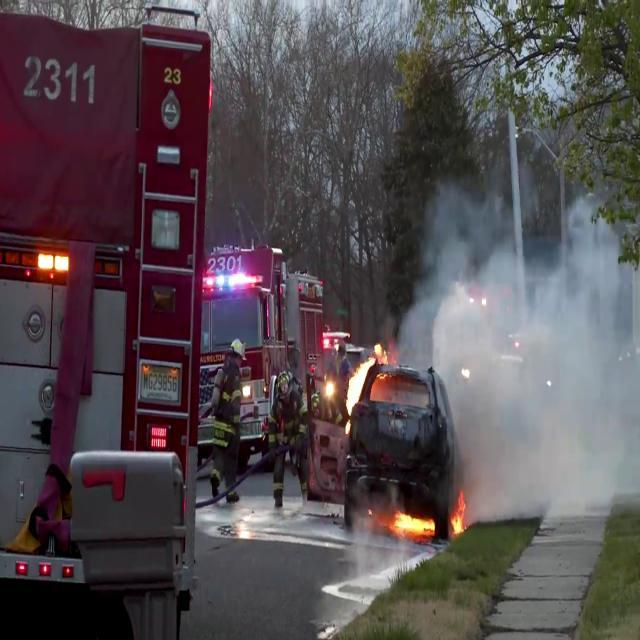Fire: (344, 348, 371, 424), (387, 502, 435, 542), (450, 490, 468, 544)
Smoke: (398, 162, 640, 534)
